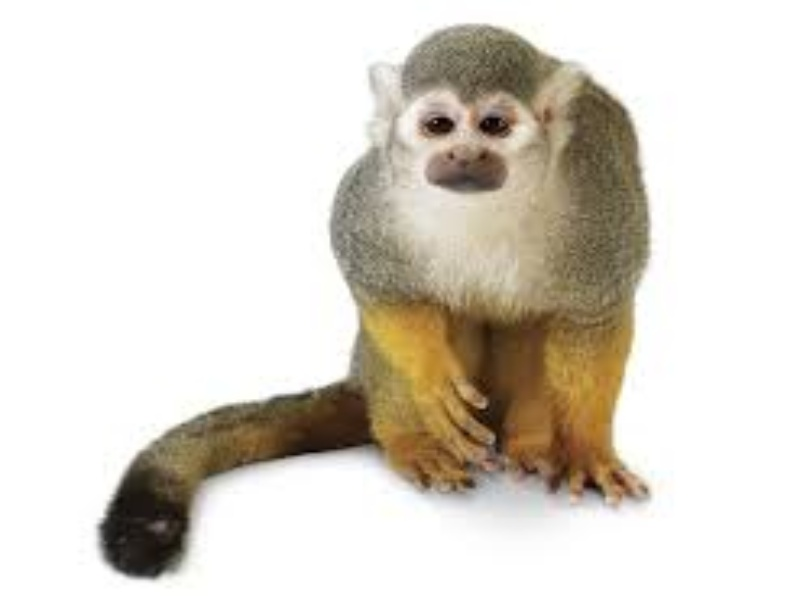monkey: (96, 26, 783, 566)
